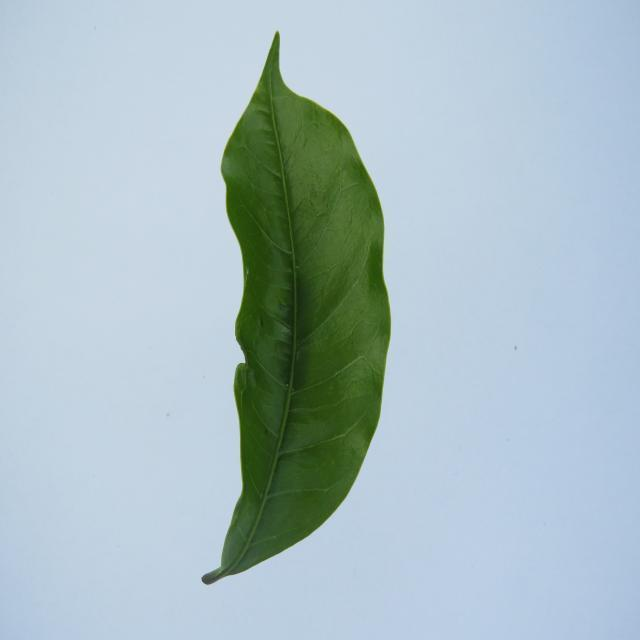DeficienciaNutricional-Calcio: (202, 33, 390, 583)
